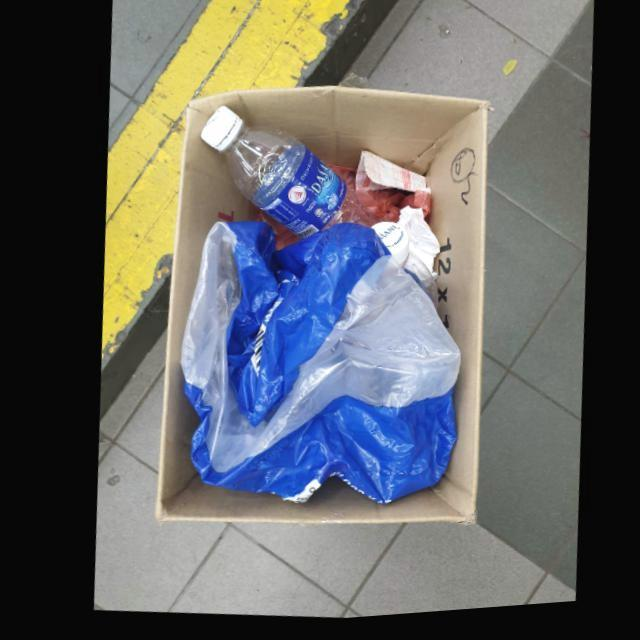paper: (351, 156, 427, 201)
plastic_bag: (174, 225, 455, 512)
plastic_bottle: (198, 109, 379, 243), (367, 227, 435, 318)
